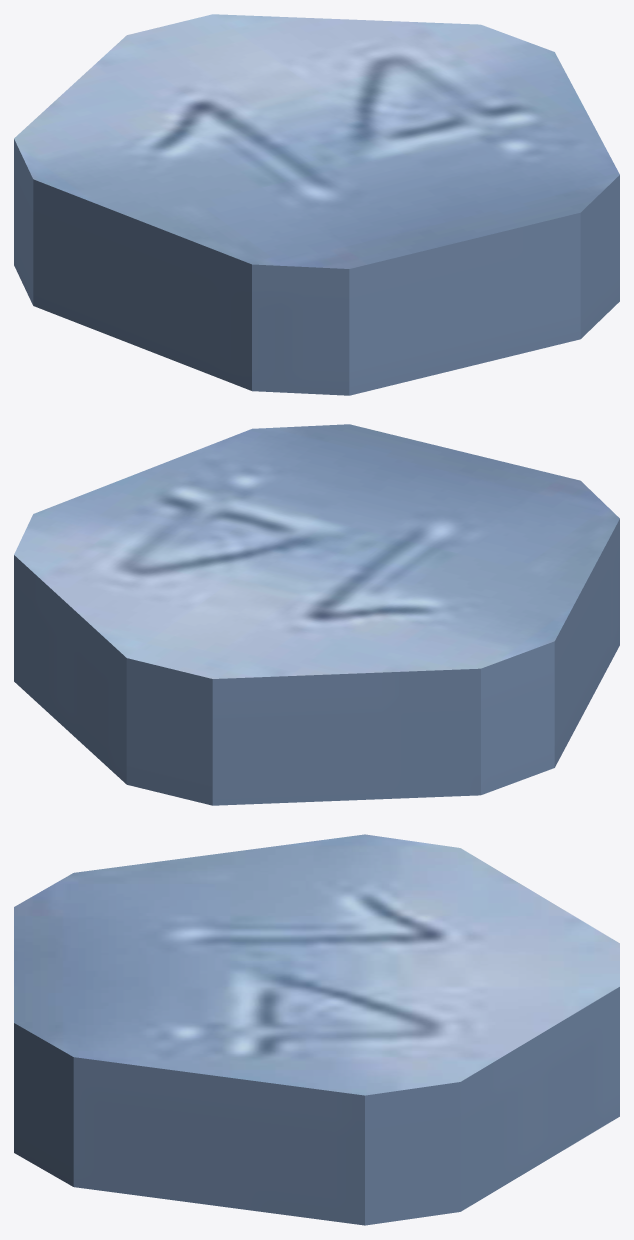
The picture shows the model from 3 angles, top to bottom: view 1: azimuth 30°, elevation 25°; view 2: azimuth 150°, elevation 25°; view 3: azimuth 270°, elevation 25°; orthographic projection. The views are drawn at different scales.
Parts seen in each view (by area): view 1: Cube; view 2: Cube; view 3: Cube.
Part boxes in pixels (x1,y1,x2,y2): Cube: [14, 14, 619, 395]; Cube: [14, 424, 619, 805]; Cube: [14, 834, 619, 1225].
Size of the model in its own units: 5.38 by 1.25 by 5.27.
1 material, 1 textured.
